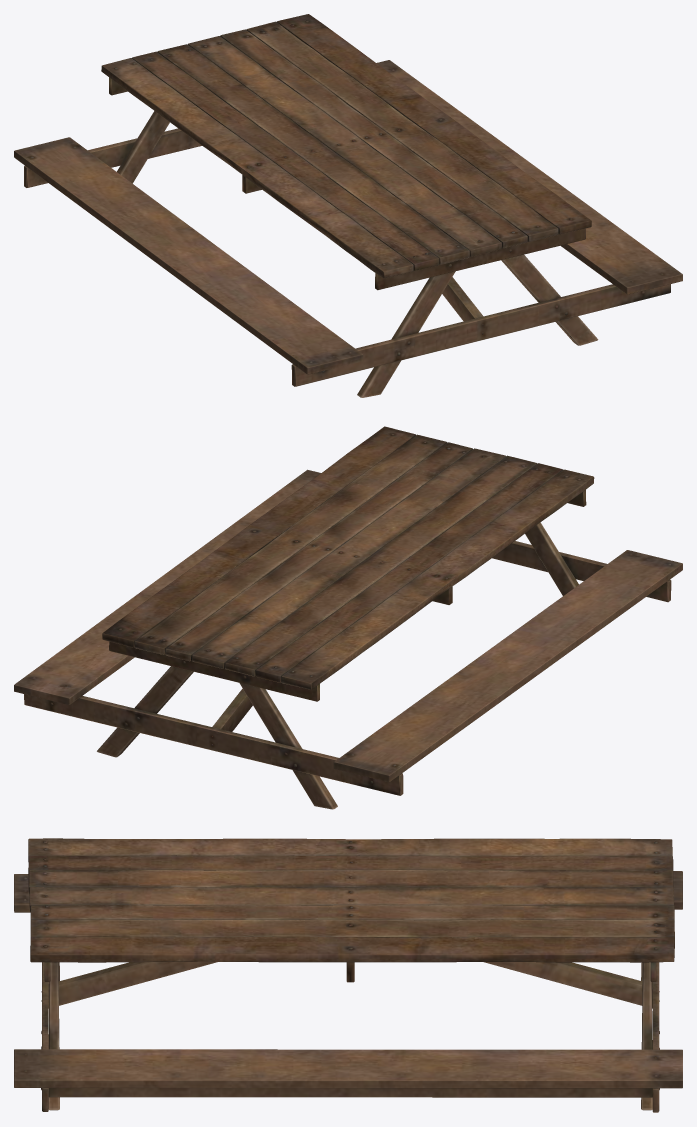
Rendered from wooden_picnic_table.glb.
3 renders of one model, top to bottom at view 1: azimuth 30°, elevation 25°; view 2: azimuth 150°, elevation 25°; view 3: azimuth 270°, elevation 25°, orthographic. The views are drawn at different scales.
Parts seen in each view (by area): view 1: wooden_picnic_table; view 2: wooden_picnic_table; view 3: wooden_picnic_table.
Boxes of the visible parts, x1,y1,x2,y2 form: wooden_picnic_table: (14, 14, 682, 397); wooden_picnic_table: (14, 426, 682, 809); wooden_picnic_table: (14, 838, 682, 1112).
Bounding box in the file's own units: 2.24 × 0.746 × 3.02.
2 materials, 2 textured.
